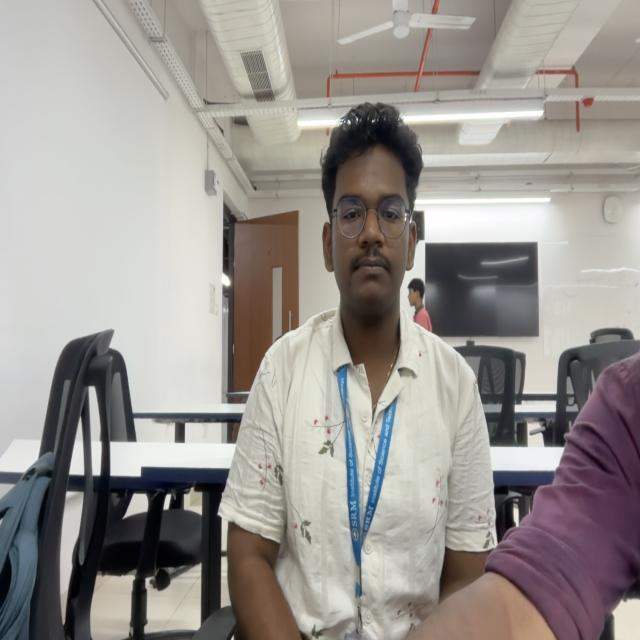sai: (321, 102, 415, 313)
